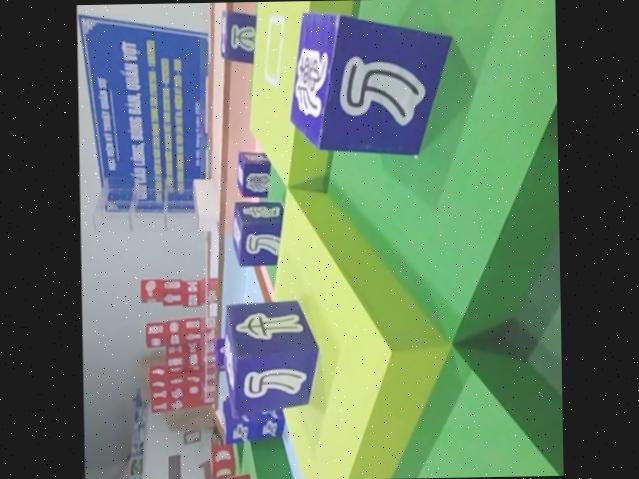R2 Fake Blue: (282, 5, 457, 152), (225, 298, 324, 418), (230, 197, 285, 265), (219, 4, 259, 62), (235, 151, 271, 199)
